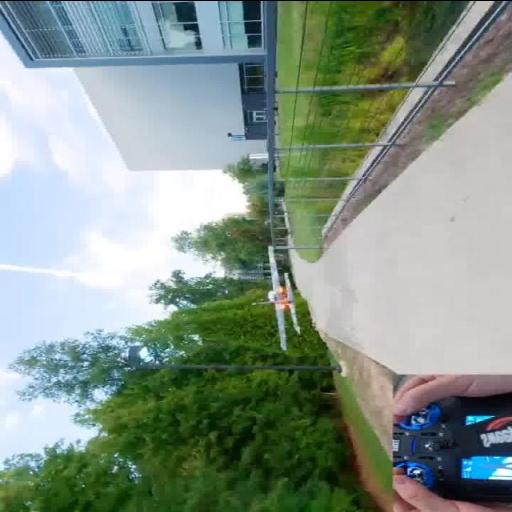uav: (254, 242, 312, 354)
